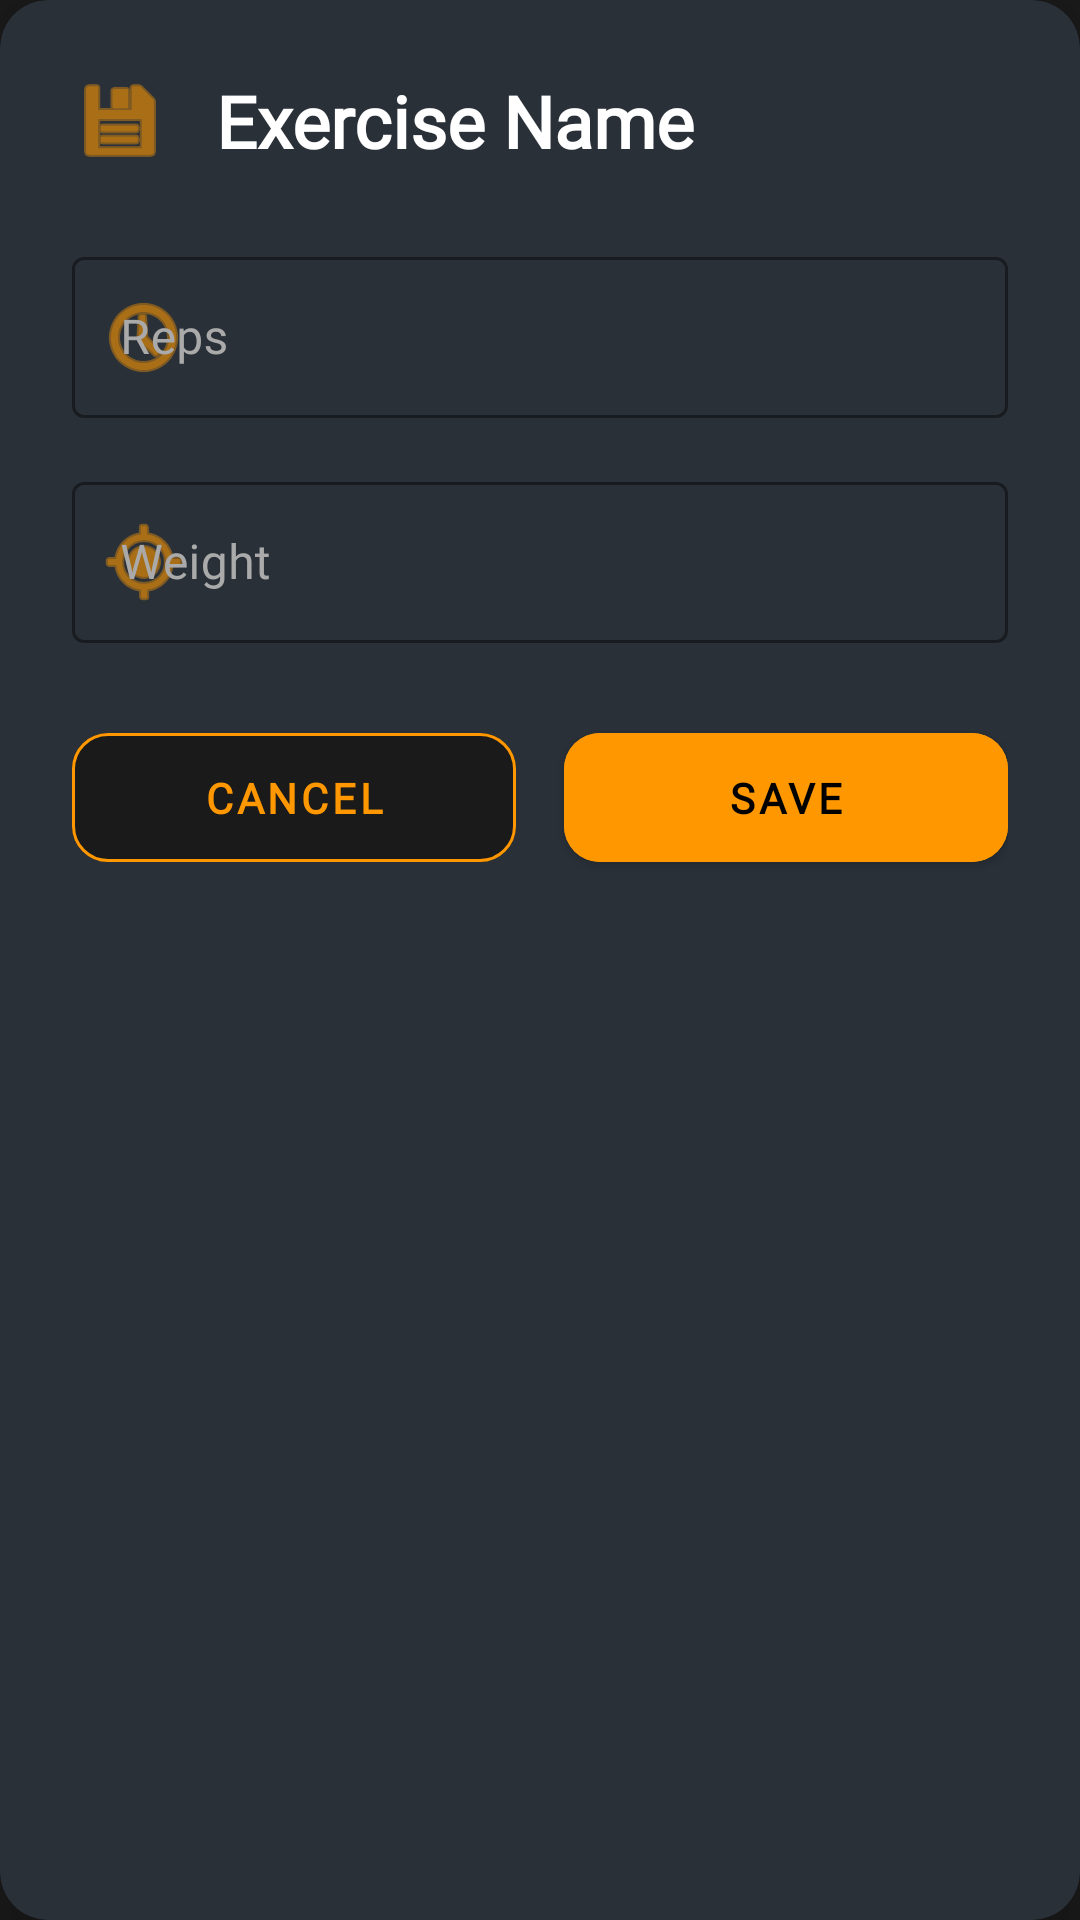

Screen size 1080*1920. Icon name, then its box in pixels as region(x1, y1, x2, y2):
save: region(84, 84, 156, 157)
